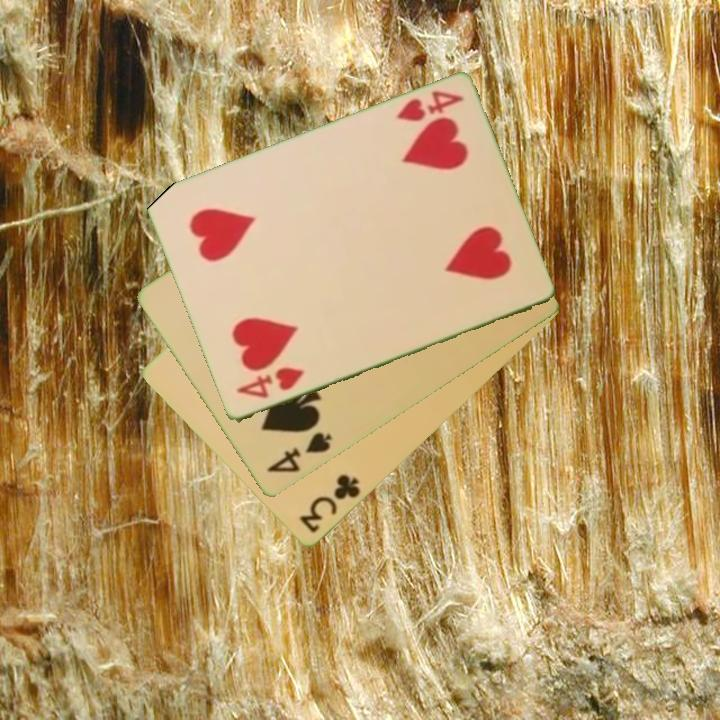3c: (295, 471, 364, 537)
4h: (233, 363, 308, 402), (393, 87, 466, 126)
4s: (263, 429, 335, 477)
